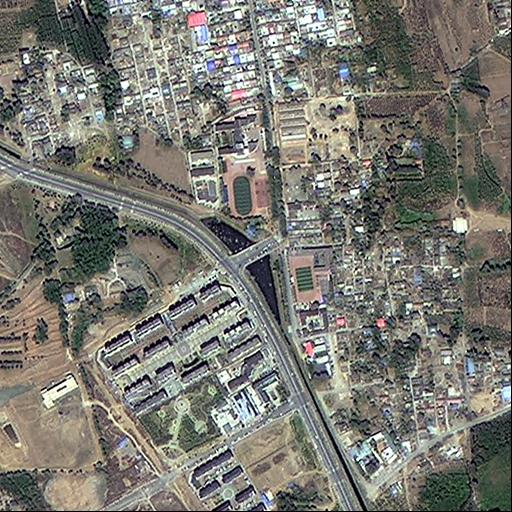school: (213, 108, 273, 223), (284, 243, 334, 309)
